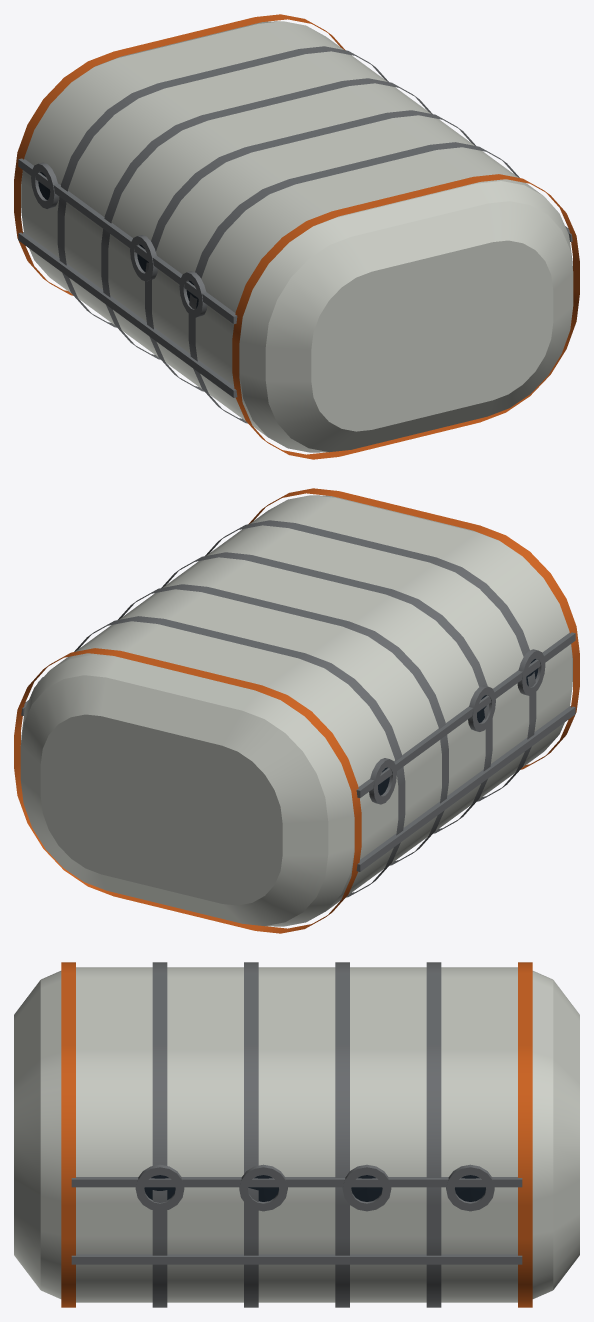
The model's file is p20_hull.obj.
3 renders of one model, top to bottom at view 1: azimuth 30°, elevation 25°; view 2: azimuth 150°, elevation 25°; view 3: azimuth 270°, elevation 25°, orthographic. The views are drawn at different scales.
Parts seen in each view (by area): view 1: p20_hull; view 2: p20_hull; view 3: p20_hull.
Boxes of the visible parts, box(x1,y1,x2,y2) form: p20_hull: box(14, 14, 579, 459); p20_hull: box(14, 488, 579, 933); p20_hull: box(14, 962, 579, 1307).
Bounding box in the file's own units: 3.4 × 2.28 × 4.65.
